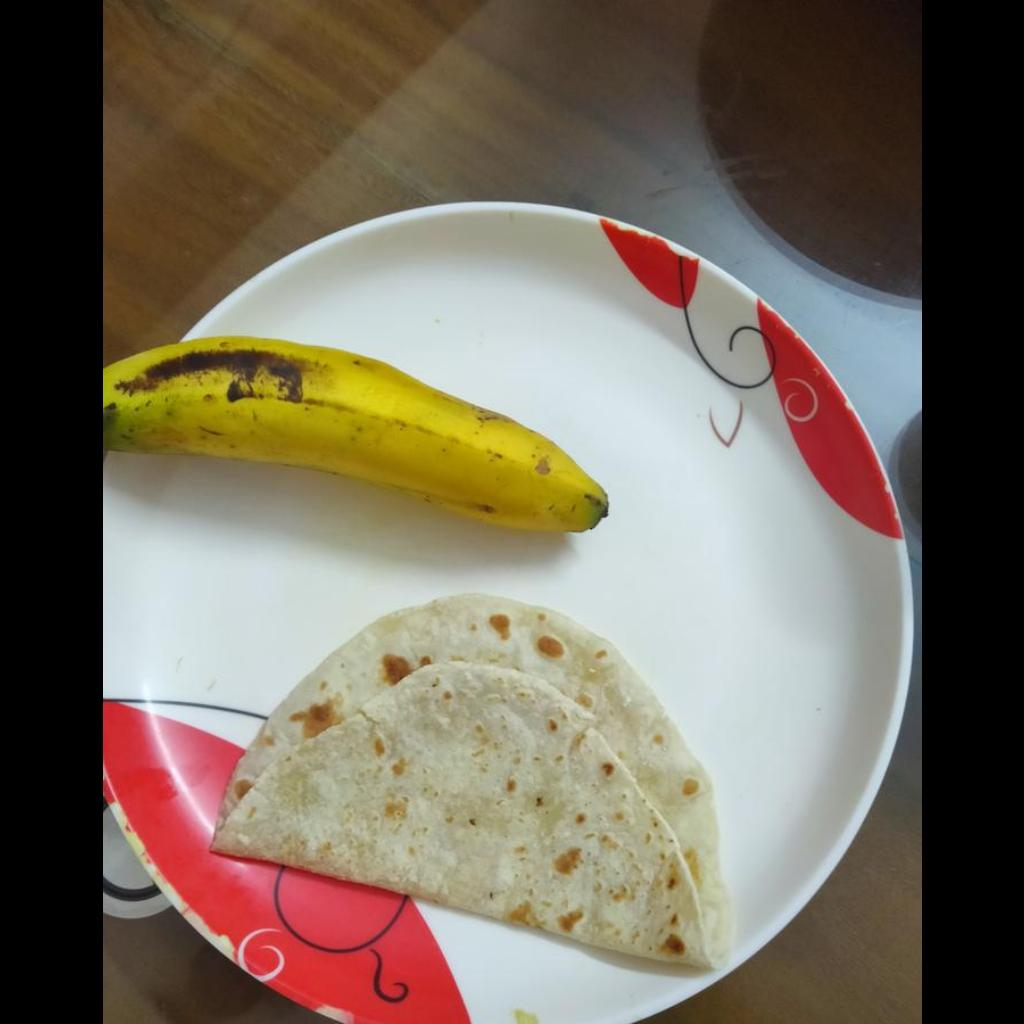banana: (102, 328, 607, 536)
ruti: (210, 595, 729, 966)
